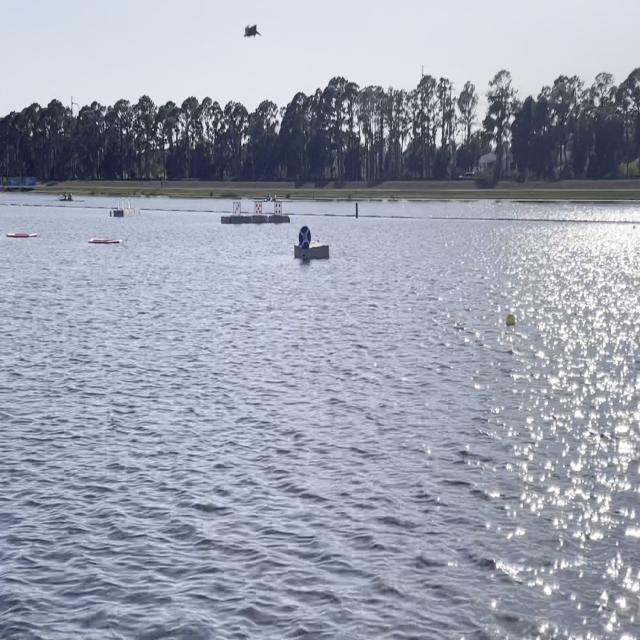buoy: (505, 312, 516, 326)
